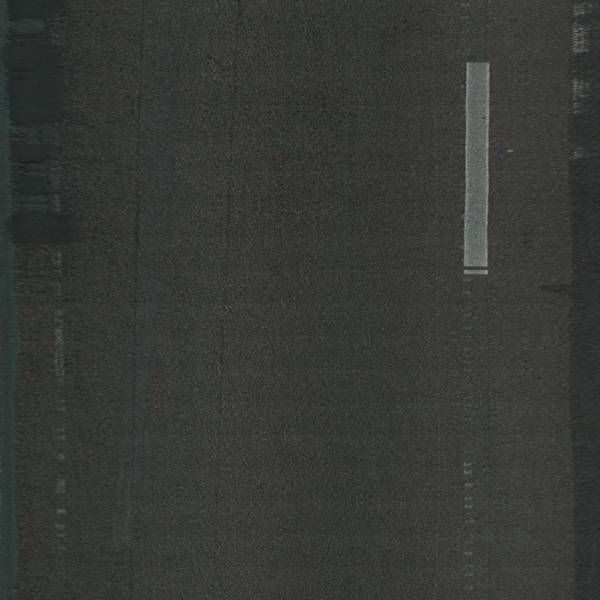road_damage: (206, 1, 248, 493), (116, 1, 148, 596)
